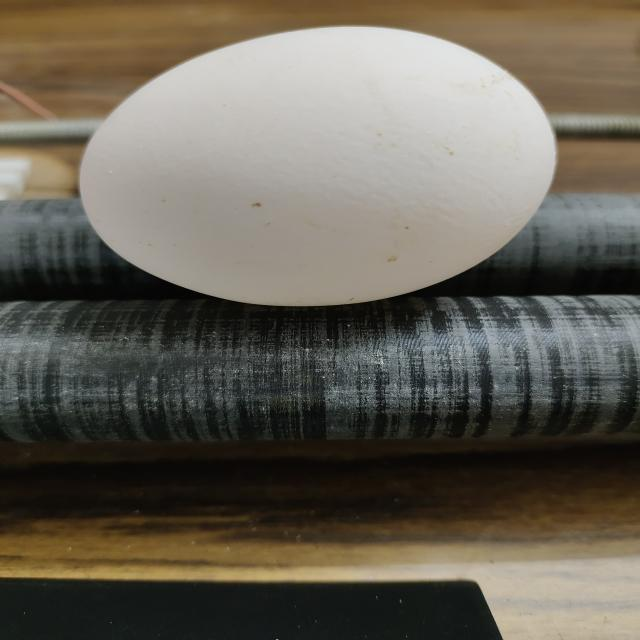Eggs: (78, 27, 559, 306)
